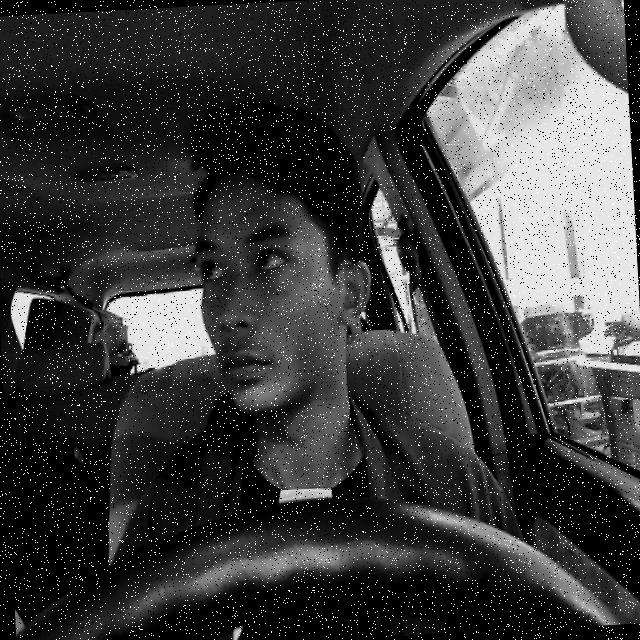seeing_left: (188, 157, 380, 419)
